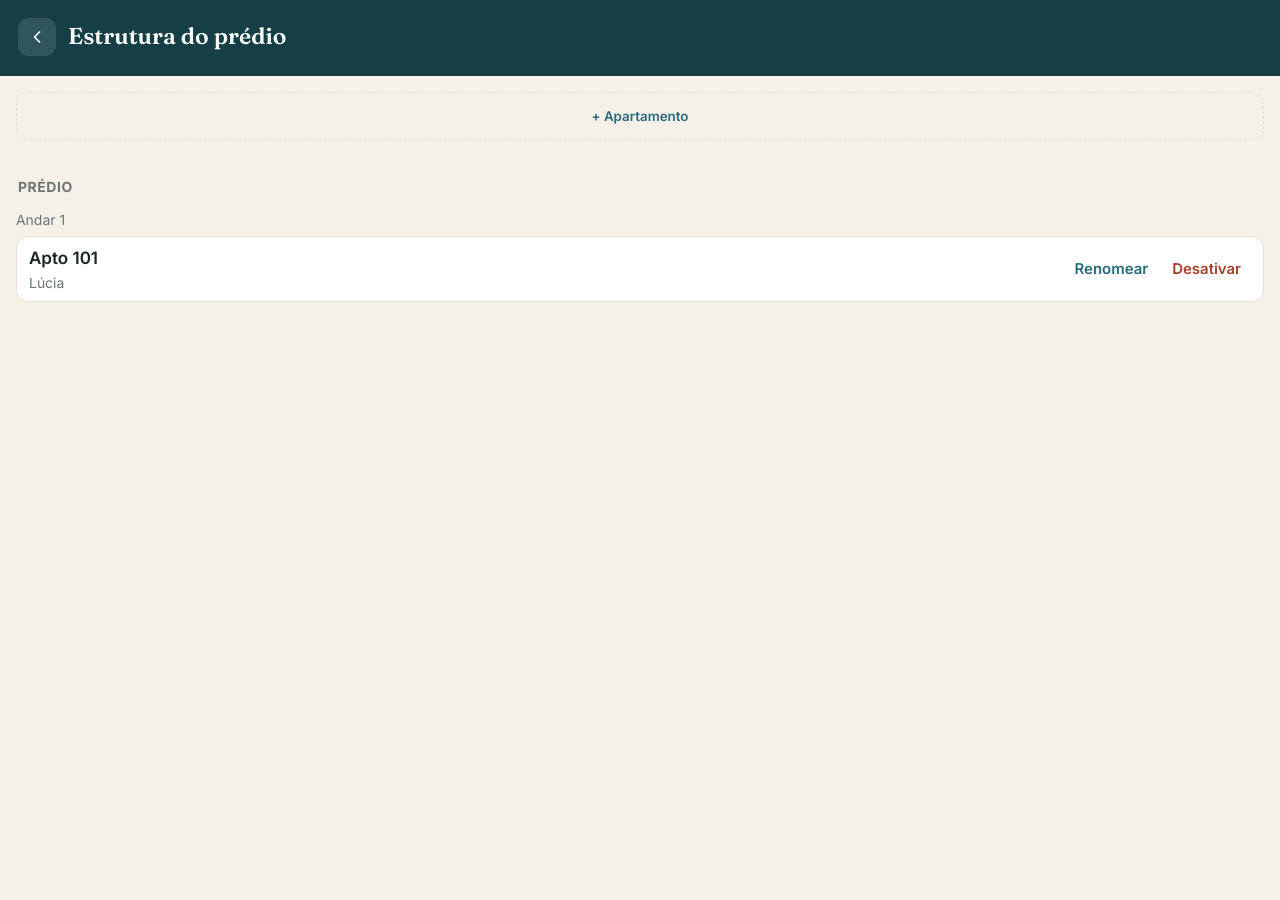
Test: BuildingStructureScreen › deactivating an occupied apartment shows "Apartamento com morador ativo"
Step 1. Click the button with aria-label "Desativar Apto 101" → {"x": 1207, "y": 269}, box [1162,249,1251,289]
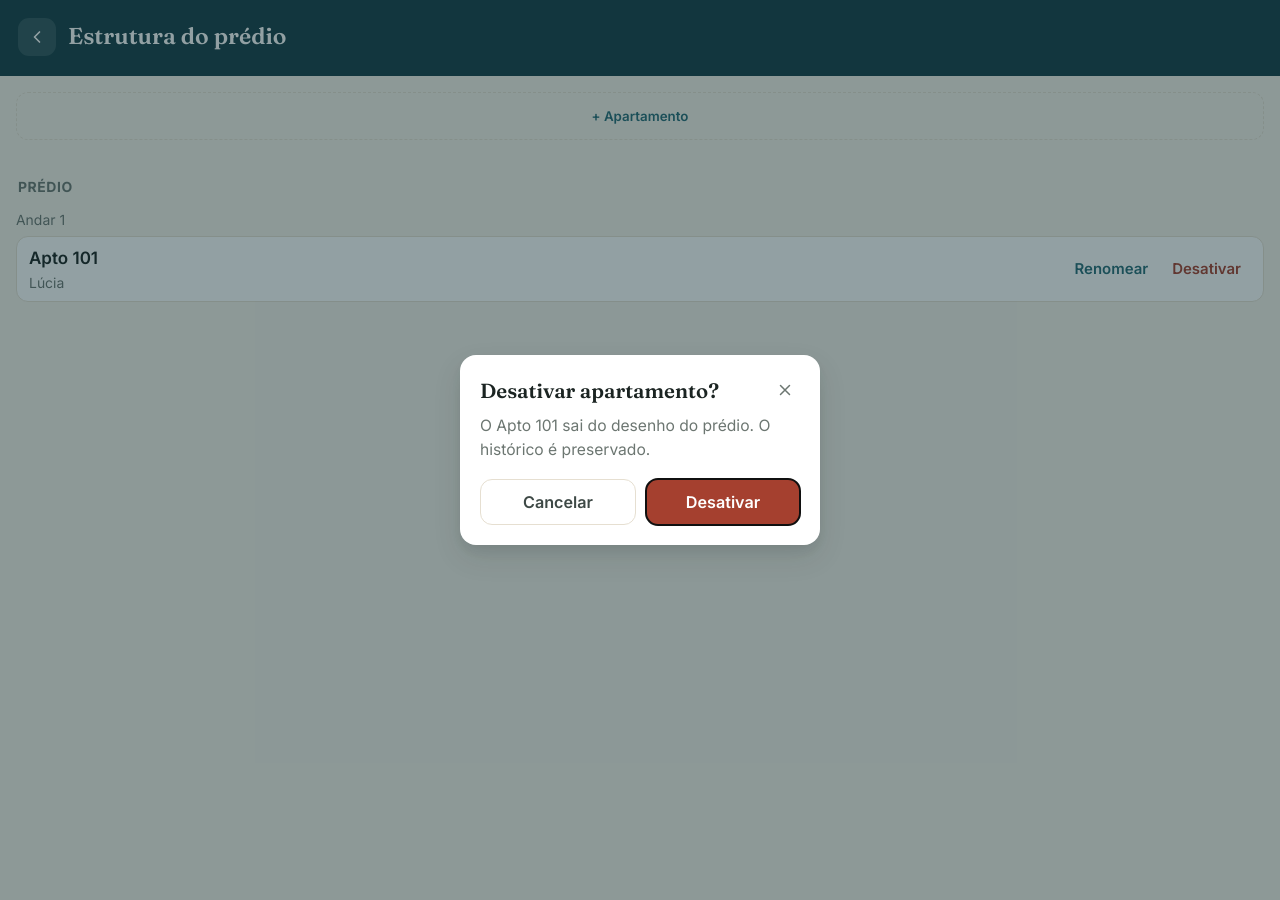
Check: the text "O Apto 101 sai do desenho do prédio. O histórico é preservado." is shown, box [480,414,800,461]
Step 2. Click the button "Desativar" → {"x": 723, "y": 502}, box [646,479,800,525]
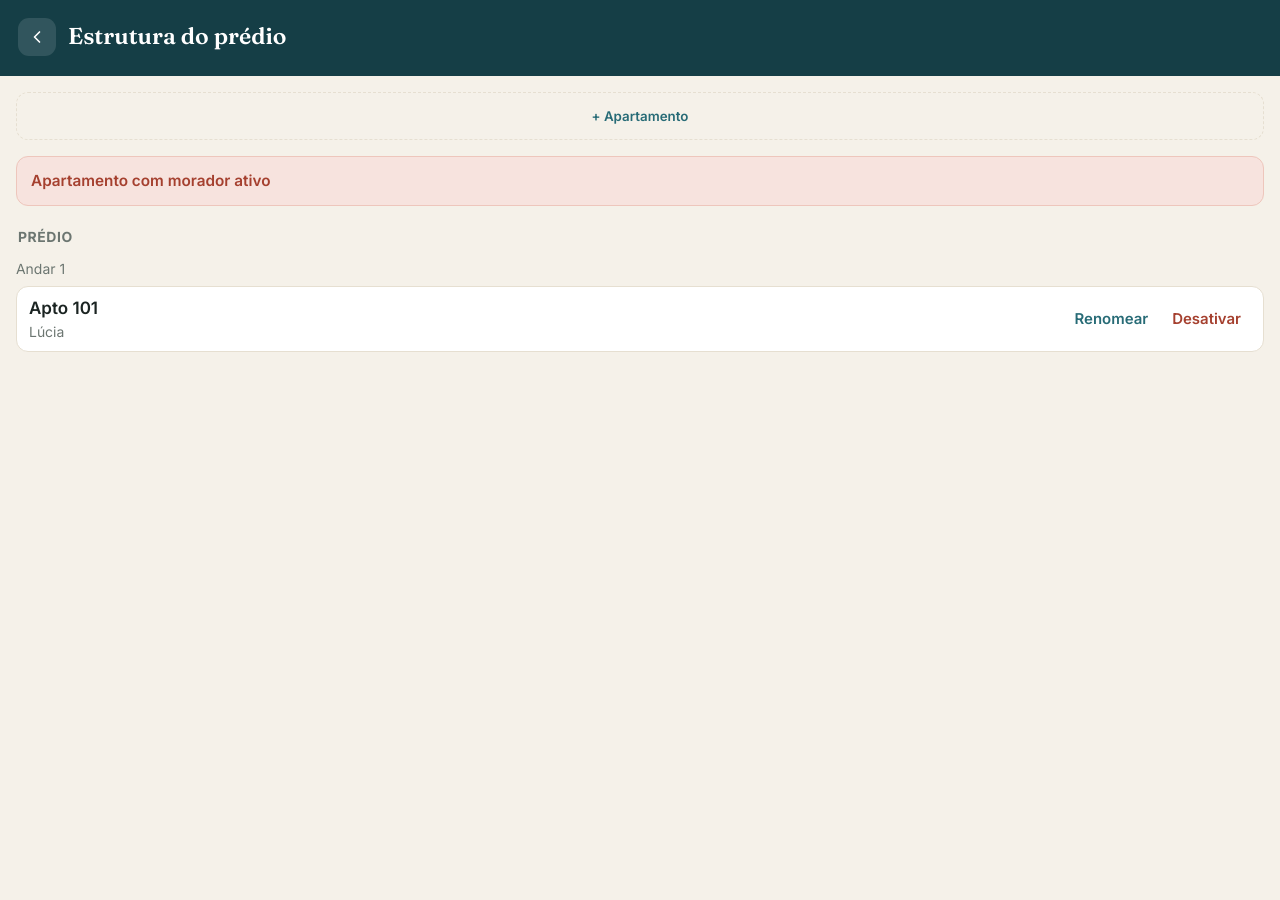
Check: the message reads "Apartamento com morador ativo", box [31,171,270,190]
